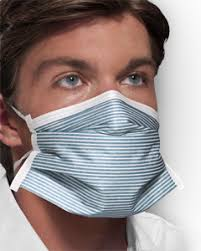flumask: (23, 105, 178, 215)
